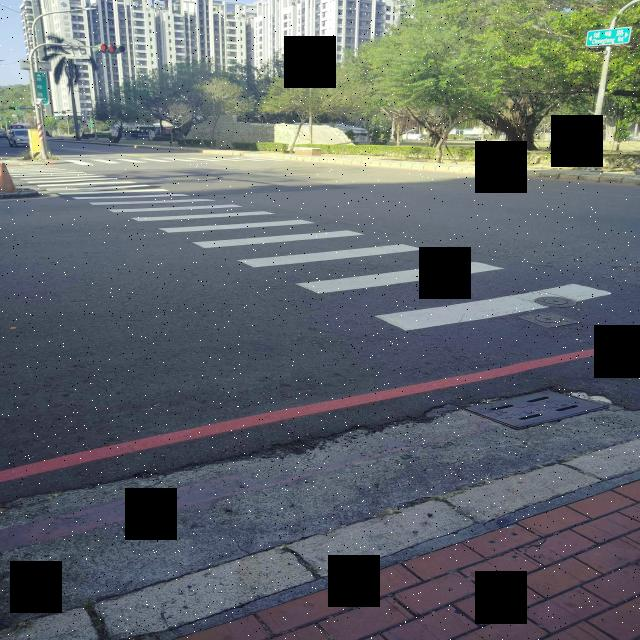zebra crossing: (11, 166, 616, 336), (68, 158, 282, 165)
